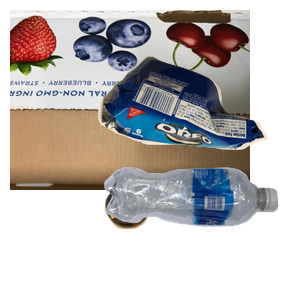cardboard: (10, 10, 250, 190)
glass: (102, 181, 246, 300)
plastic: (102, 165, 300, 300)
trash: (95, 53, 300, 195)
